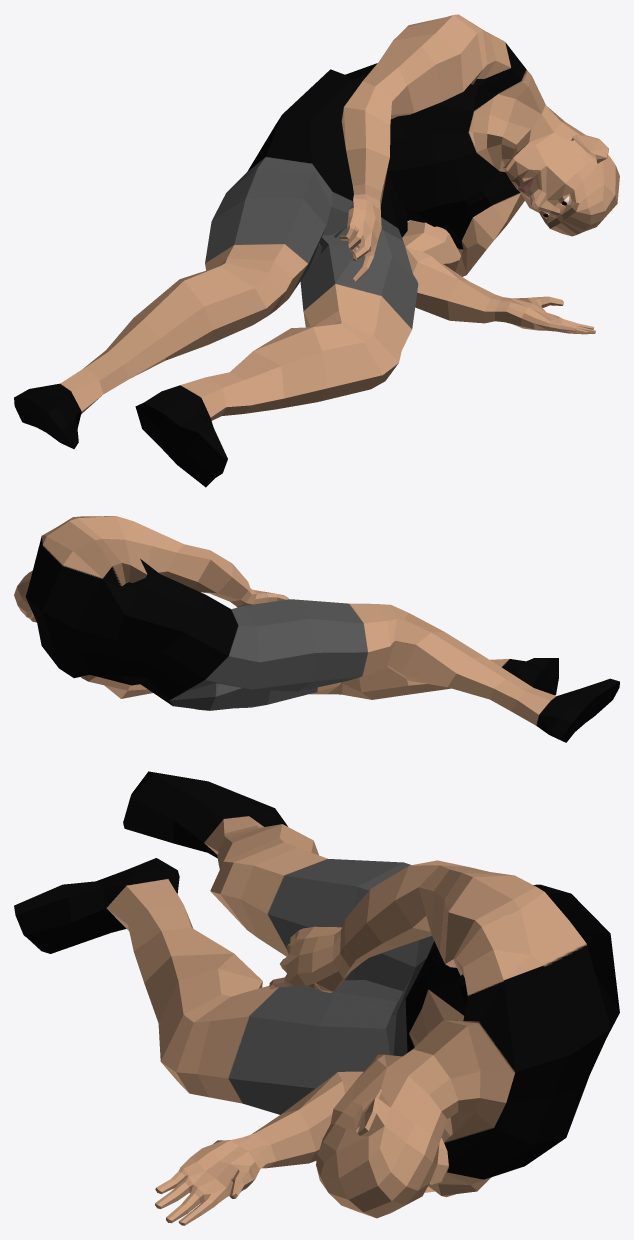
File: PlayerDead(88).obj
3 renders of one model, top to bottom at view 1: azimuth 30°, elevation 25°; view 2: azimuth 150°, elevation 25°; view 3: azimuth 270°, elevation 25°, orthographic. The views are drawn at different scales.
Parts seen in each view (by area): view 1: Plane002; view 2: Plane002; view 3: Plane002.
Boxes of the visible parts, x1,y1,x2,y2 form: Plane002: [14, 14, 619, 487]; Plane002: [14, 516, 619, 742]; Plane002: [14, 771, 619, 1225].
Size of the model in its own units: 1573 by 556 by 922.
